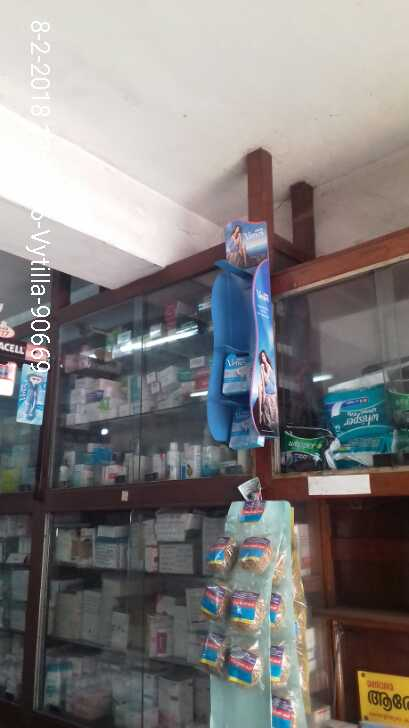beauty: (17, 361, 49, 432), (217, 348, 259, 395)
pharmacy: (321, 396, 394, 432), (282, 424, 325, 467)
